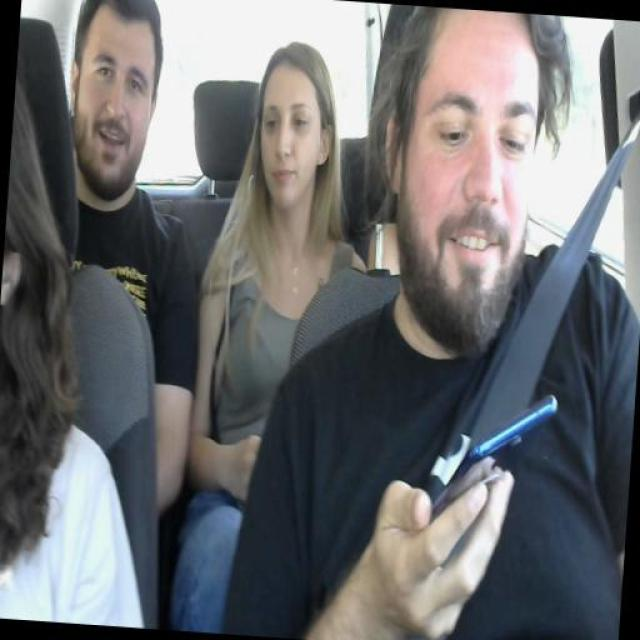phone: (436, 399, 556, 497)
